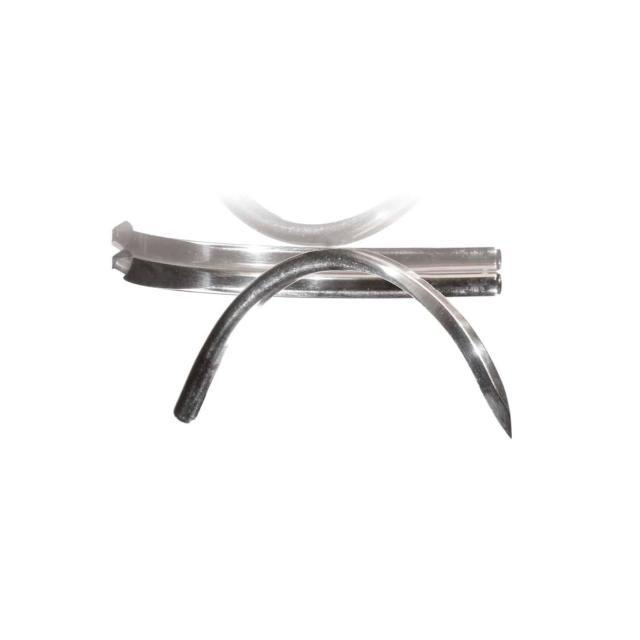Needle: (168, 246, 516, 442), (107, 246, 506, 304)
